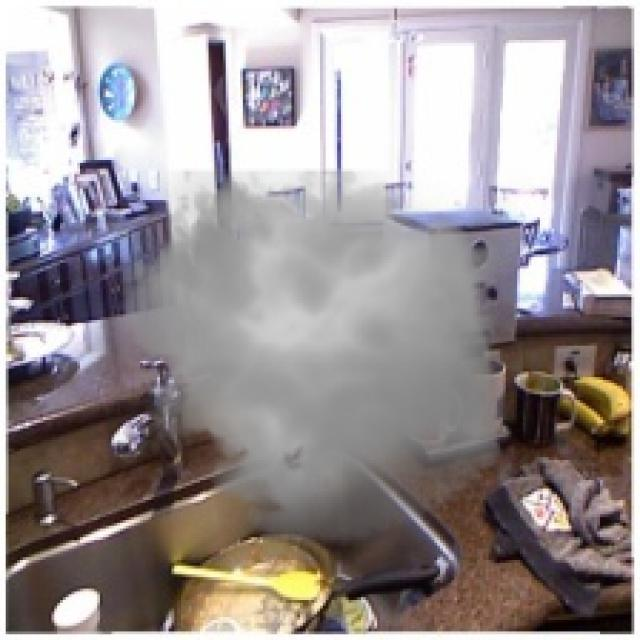smoke: (106, 152, 523, 557)
